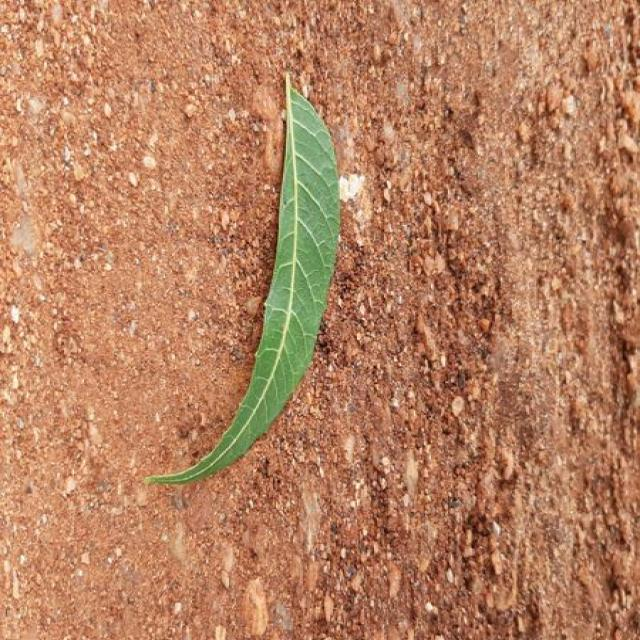neem: (145, 75, 340, 484)
